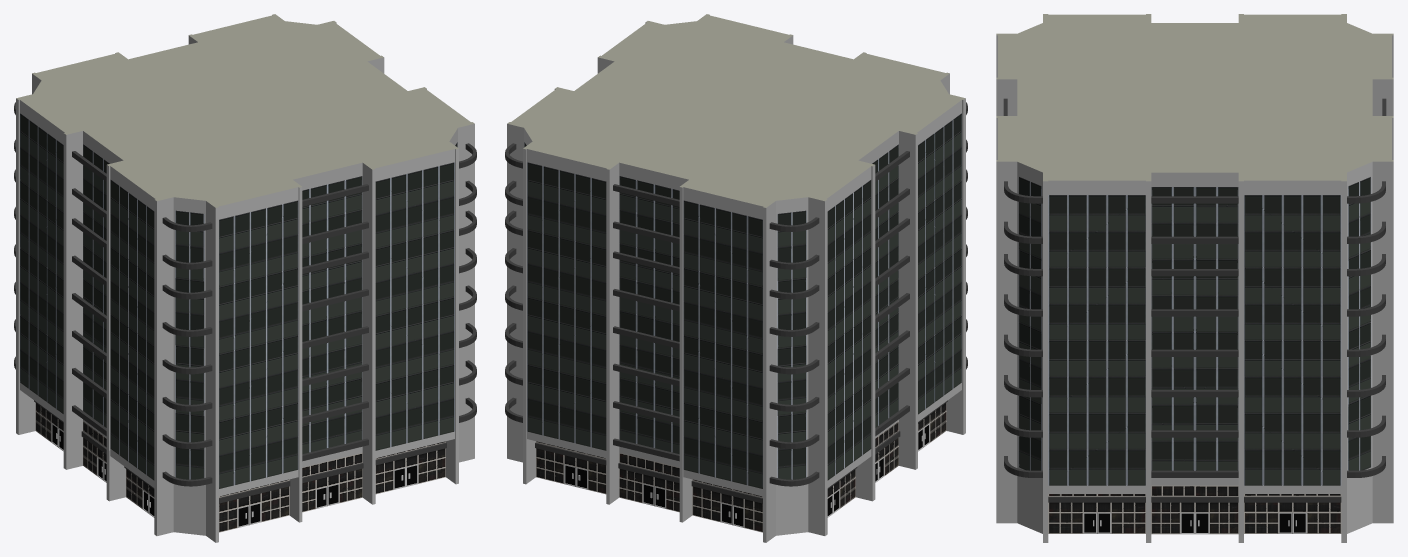
The picture shows the model from 3 angles, left to right: view 1: azimuth 30°, elevation 25°; view 2: azimuth 150°, elevation 25°; view 3: azimuth 270°, elevation 25°; orthographic projection. The views are drawn at different scales.
Parts seen in each view (by area): view 1: QD-10; view 2: QD-10; view 3: QD-10.
Boxes of the visible parts, box(x1,y1,x2,y2) form: QD-10: box(14, 14, 476, 542); QD-10: box(505, 14, 967, 542); QD-10: box(996, 14, 1393, 542).
Size of what is drawn, in the model's own units: 40.24 by 40.53 by 40.33.
